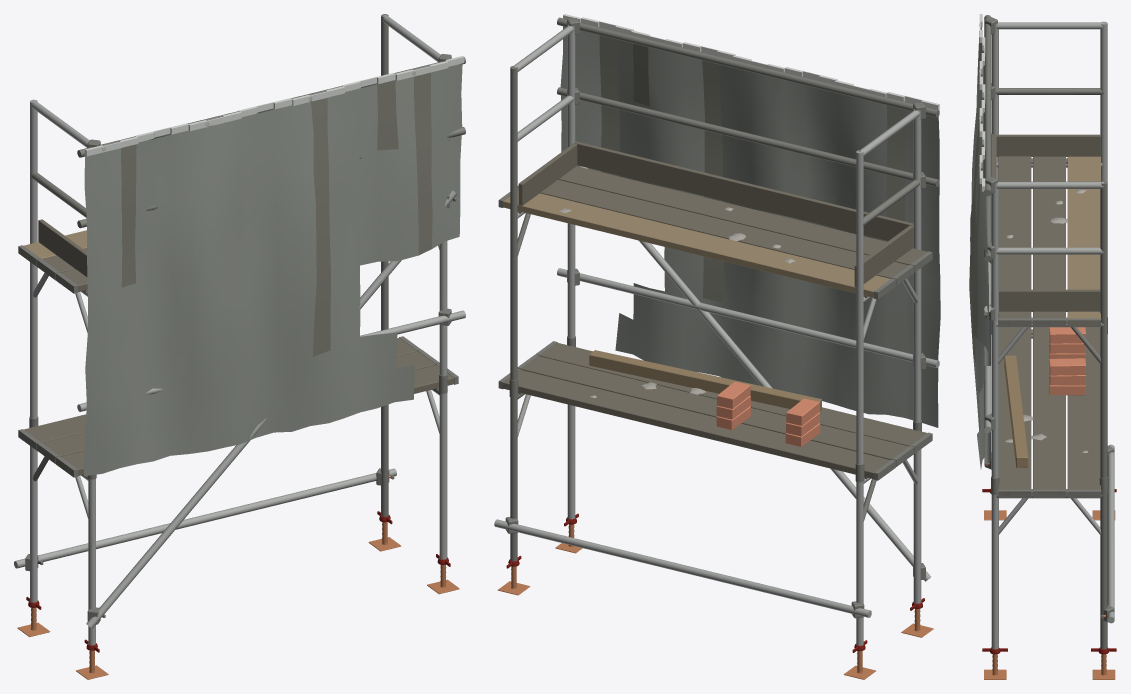
File: scaffold@1.glb
The picture shows the model from 3 angles, left to right: view 1: azimuth 30°, elevation 25°; view 2: azimuth 150°, elevation 25°; view 3: azimuth 270°, elevation 25°; orthographic projection. The views are drawn at different scales.
Parts seen in each view (by area): view 1: teil11, teil4, teil12, teil8, teil5, teil13, teil6, teil0; view 2: teil11, teil8, teil4, teil5, teil10, teil12, teil16, teil6, teil15, teil13, teil0; view 3: teil8, teil4, teil5, teil10, teil11, teil6, teil15, teil12, teil16, teil13, teil0, teil9 (+1 smaller).
Part boxes in pixels (x1,y1,x2,y2): teil11: (84, 64, 462, 476); teil4: (14, 15, 465, 645); teil12: (121, 72, 432, 356); teil8: (22, 219, 454, 476); teil5: (29, 14, 465, 516); teil13: (85, 56, 464, 156); teil6: (18, 54, 458, 624); teil0: (17, 537, 459, 679); teil11: (560, 26, 940, 427); teil8: (503, 141, 927, 478); teil4: (494, 25, 939, 645); teil5: (509, 17, 939, 561); teil10: (503, 190, 890, 297); teil12: (599, 35, 906, 302); teil16: (589, 350, 821, 411); teil6: (498, 18, 932, 618); teil15: (716, 381, 820, 446); teil13: (563, 14, 939, 109); teil0: (498, 543, 933, 679); teil8: (991, 133, 1100, 497); teil4: (984, 21, 1114, 649); teil5: (984, 15, 1107, 649); teil10: (1067, 156, 1100, 326); teil11: (970, 27, 989, 469); teil6: (985, 17, 1114, 622); teil15: (1049, 327, 1085, 395); teil12: (969, 43, 984, 362); teil16: (1004, 355, 1028, 467); teil13: (979, 14, 985, 191); teil0: (984, 510, 1115, 679); teil9: (1005, 189, 1087, 452).
Size of the model in its own units: 2.74 by 3.62 by 0.9767.
